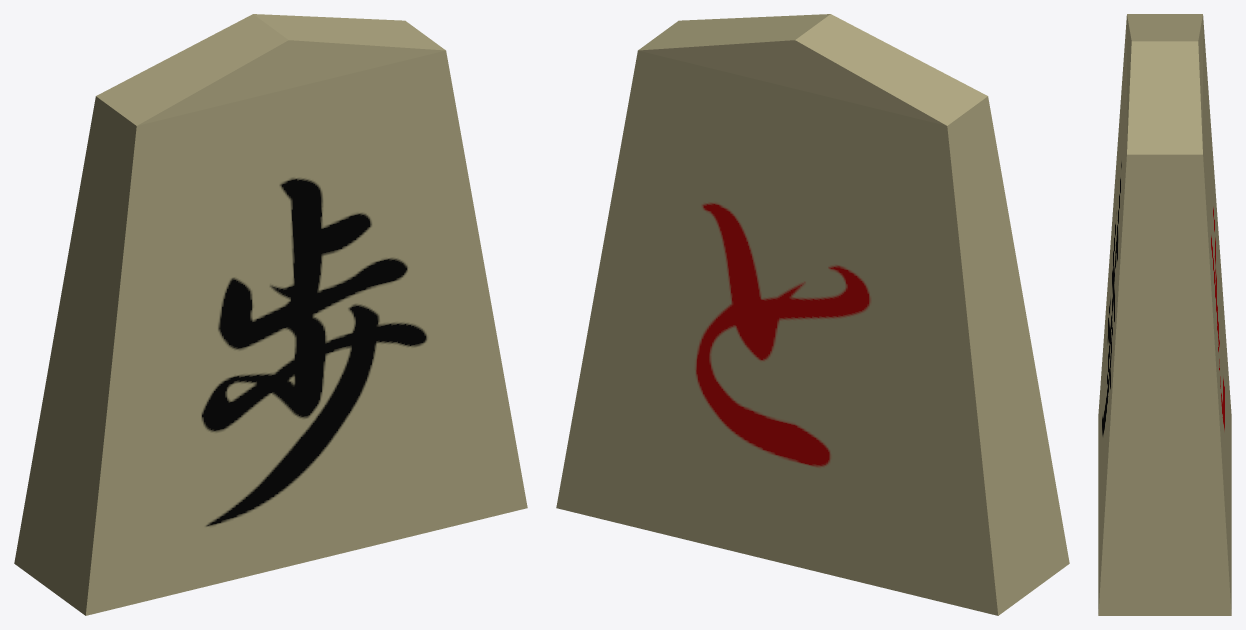
File: Shogi.glb
The picture shows the model from 3 angles, left to right: view 1: azimuth 30°, elevation 25°; view 2: azimuth 150°, elevation 25°; view 3: azimuth 270°, elevation 25°; orthographic projection. The views are drawn at different scales.
Parts seen in each view (by area): view 1: mesh; view 2: mesh; view 3: mesh.
Part boxes in pixels (<box>): mesh: <box>14,14,527,615</box>; mesh: <box>556,14,1069,615</box>; mesh: <box>1098,14,1231,615</box>.
Bounding box in the file's own units: 1.6 × 1.76 × 0.448.
Materials: 1 (1 with a texture image).
